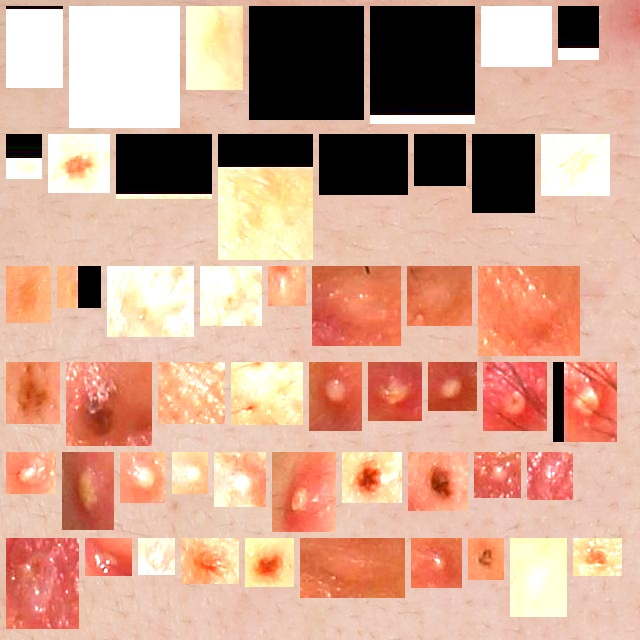hypertrophic_scar: (486, 274, 572, 348), (320, 274, 393, 338), (308, 546, 397, 590), (115, 274, 186, 329), (239, 370, 295, 417), (518, 546, 559, 609), (166, 370, 217, 416), (415, 274, 464, 318), (208, 274, 254, 318), (276, 274, 298, 298)
melasma: (77, 14, 172, 120), (257, 14, 356, 112), (378, 14, 467, 116), (226, 142, 305, 252), (124, 142, 204, 191), (327, 142, 400, 187), (480, 142, 527, 205), (194, 14, 235, 82), (14, 14, 55, 80), (489, 14, 544, 59), (549, 142, 602, 188), (422, 142, 458, 178), (14, 274, 43, 315), (566, 14, 591, 52), (65, 274, 93, 300), (14, 142, 34, 171)
nevus: (74, 370, 144, 438), (56, 142, 102, 185), (416, 460, 460, 503), (350, 460, 394, 495), (189, 546, 231, 576), (253, 546, 286, 579), (581, 546, 614, 568), (476, 546, 496, 572)
pustule: (14, 546, 71, 621), (561, 370, 609, 434), (280, 460, 328, 524), (491, 370, 539, 423), (70, 460, 106, 522), (317, 370, 354, 423), (376, 370, 414, 413), (222, 460, 258, 499), (419, 546, 454, 580), (436, 370, 469, 403), (128, 460, 158, 495), (535, 460, 565, 492), (482, 460, 513, 490), (14, 460, 48, 486), (93, 546, 124, 568), (180, 460, 200, 486), (146, 546, 167, 567)
